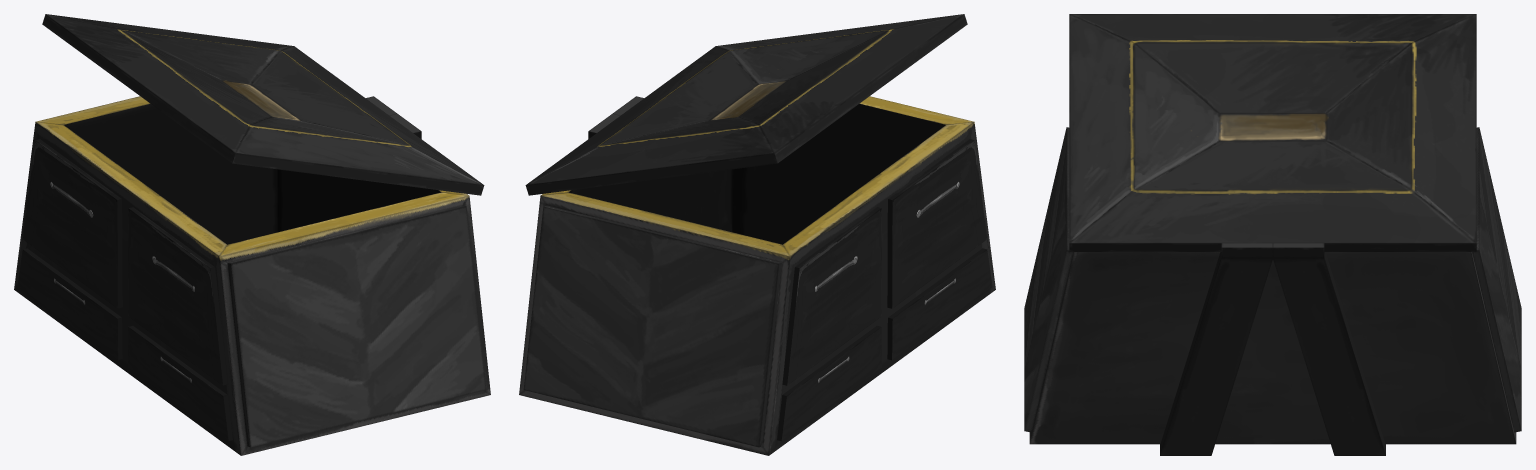
Rendered from Chest.fbx.
The picture shows the model from 3 angles, left to right: view 1: azimuth 30°, elevation 25°; view 2: azimuth 150°, elevation 25°; view 3: azimuth 270°, elevation 25°; orthographic projection. The views are drawn at different scales.
Visible parts, largest first — view 1: Plane.002, Plane.006, Plane.004, Plane.005; view 2: Plane.002, Plane.006, Plane.004, Plane.005; view 3: Plane.006, Plane.002, Plane.003.
Part boxes in pixels (x1,y1,x2,y2): Plane.002: [14, 96, 490, 455]; Plane.006: [42, 14, 484, 195]; Plane.004: [23, 139, 227, 385]; Plane.005: [17, 248, 232, 441]; Plane.002: [519, 96, 995, 455]; Plane.006: [525, 14, 967, 195]; Plane.004: [782, 139, 986, 385]; Plane.005: [777, 248, 992, 441]; Plane.006: [1069, 14, 1476, 251]; Plane.002: [1024, 127, 1521, 444]; Plane.003: [1160, 243, 1385, 455].
Bounding box in the file's own units: 172 × 172 × 252.
